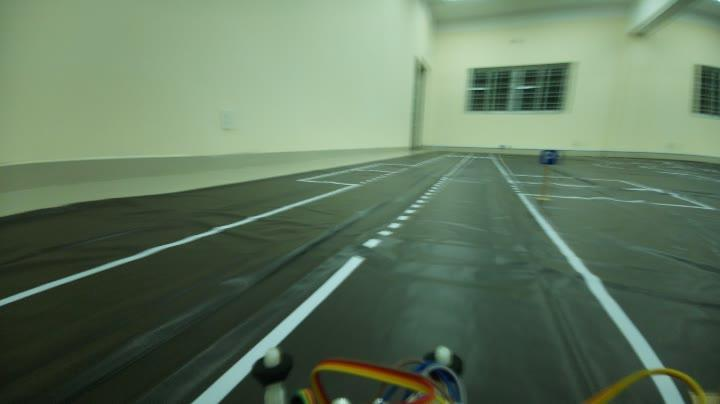parking: (534, 142, 560, 166)
